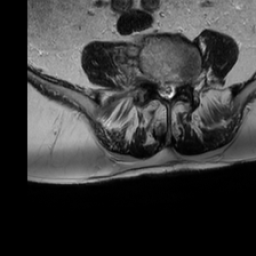CCS_stenosis: (163, 76, 170, 103)
LFS_severe_stenosis: (177, 71, 185, 90)
LLS_normal: (170, 78, 177, 99)
RFS_severe_stenosis: (148, 67, 156, 89)
RLS_normal: (156, 76, 163, 98)
